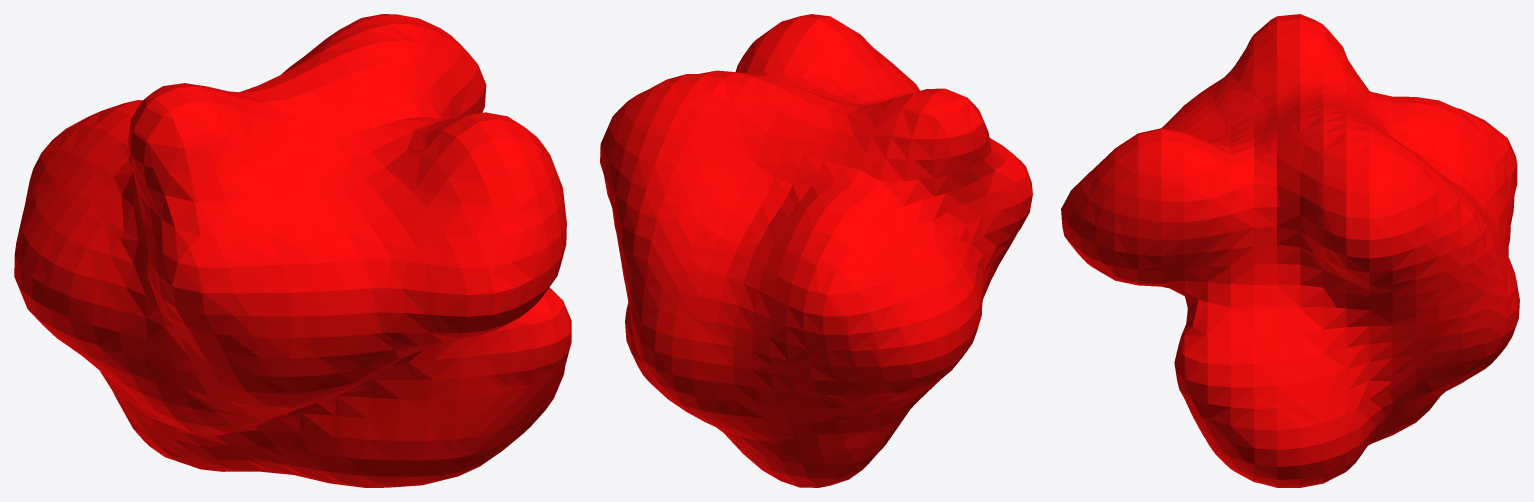
Rendered from ydfZ_coarse.dae.
3 renders of one model, left to right at view 1: azimuth 30°, elevation 25°; view 2: azimuth 150°, elevation 25°; view 3: azimuth 270°, elevation 25°, orthographic. The views are drawn at different scales.
Visible parts, largest first — view 1: ydfZ; view 2: ydfZ; view 3: ydfZ.
Boxes of the visible parts, box(x1,y1,x2,y2) form: ydfZ: box(14, 14, 571, 487); ydfZ: box(600, 14, 1032, 487); ydfZ: box(1061, 14, 1519, 487).
Size of the model in its own units: 31.78 by 29.7 by 33.55.
